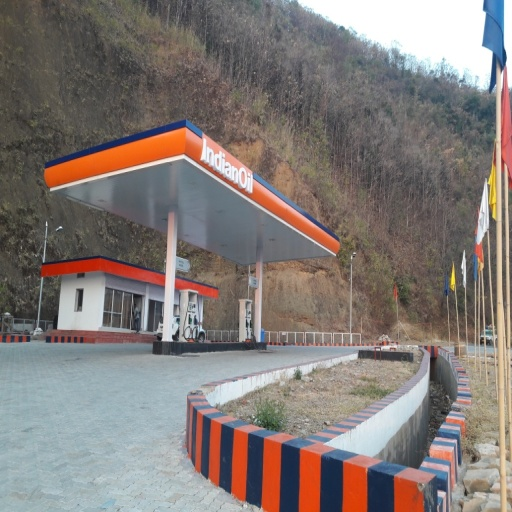roof: (44, 118, 335, 267)
